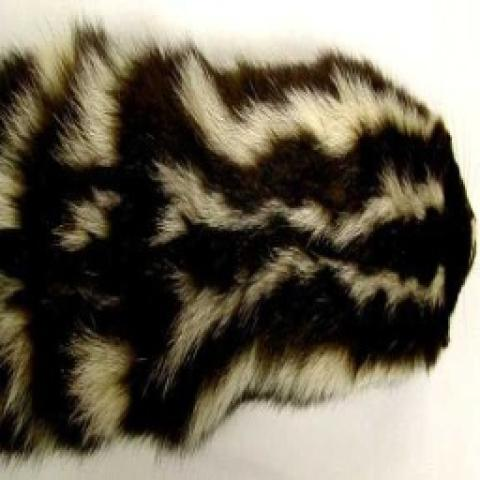small_animal: (0, 63, 480, 445)
